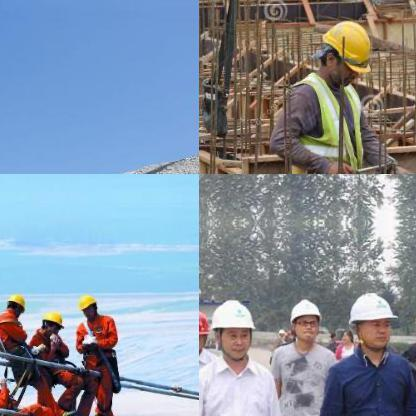Helmet: (314, 14, 372, 84), (206, 292, 258, 364), (346, 287, 402, 351), (286, 295, 324, 345), (199, 301, 214, 355), (39, 306, 63, 336), (76, 289, 98, 316), (4, 290, 26, 314)
